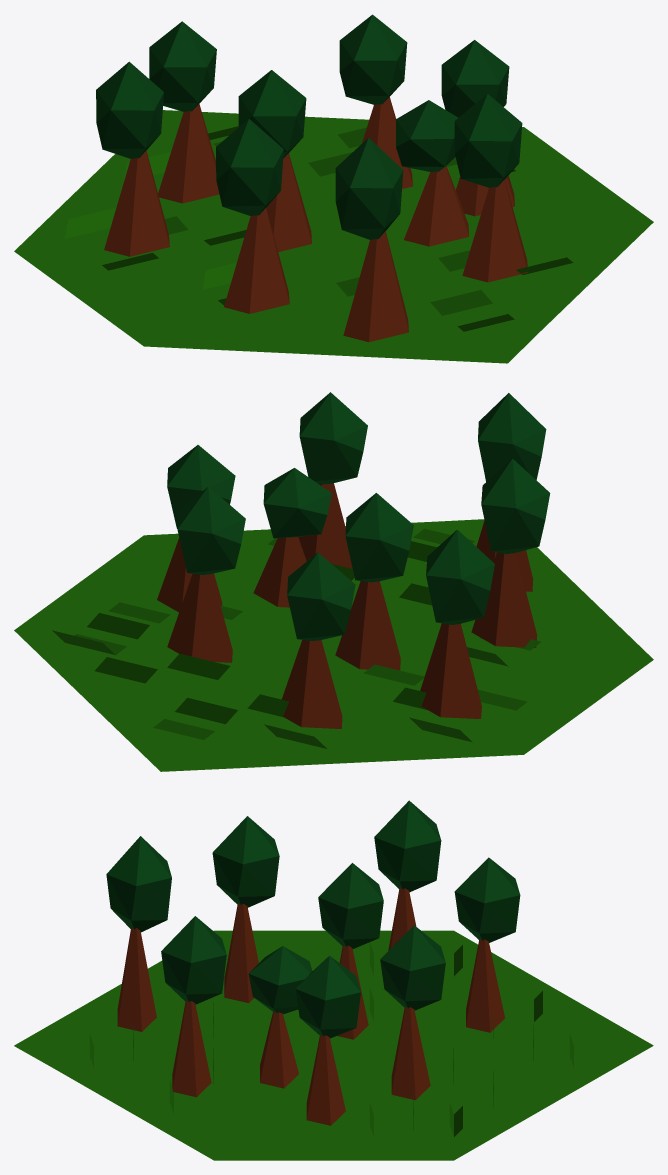
The model's file is lumber.fbx.
The picture shows the model from 3 angles, top to bottom: view 1: azimuth 30°, elevation 25°; view 2: azimuth 150°, elevation 25°; view 3: azimuth 270°, elevation 25°; orthographic projection. The views are drawn at different scales.
Parts seen in each view (by area): view 1: Plane, Icosphere.001, Icosphere.008, Icosphere.005, Icosphere.003, Icosphere.004, Icosphere.006, Icosphere, Icosphere.002, Icosphere.007; view 2: Plane, Icosphere.008, Icosphere.005, Icosphere.002, Icosphere, Icosphere.004, Icosphere.003, Icosphere.006, Icosphere.001, Icosphere.007; view 3: Plane, Icosphere.001, Icosphere.005, Icosphere.003, Icosphere.004, Icosphere, Icosphere.007, Icosphere.008, Icosphere.002, Icosphere.006.
Part boxes in pixels (x1,y1,x2,y2): Plane: [14, 110, 653, 363]; Icosphere.001: [335, 138, 408, 342]; Icosphere.008: [96, 61, 169, 256]; Icosphere.005: [216, 119, 289, 313]; Icosphere.003: [454, 94, 527, 282]; Icosphere.004: [149, 21, 219, 203]; Icosphere.006: [396, 100, 469, 246]; Icosphere: [339, 14, 412, 188]; Icosphere.002: [238, 70, 311, 251]; Icosphere.007: [441, 40, 514, 216]; Plane: [14, 519, 653, 771]; Icosphere.008: [420, 529, 494, 718]; Icosphere.005: [471, 458, 550, 647]; Icosphere.002: [335, 493, 413, 670]; Icosphere: [167, 486, 245, 662]; Icosphere.004: [281, 552, 355, 728]; Icosphere.003: [298, 392, 367, 568]; Icosphere.006: [253, 468, 331, 607]; Icosphere.001: [476, 393, 546, 591]; Icosphere.007: [157, 445, 235, 612]; Plane: [14, 930, 653, 1160]; Icosphere.001: [106, 836, 171, 1031]; Icosphere.005: [212, 816, 279, 1002]; Icosphere.003: [161, 916, 226, 1097]; Icosphere.004: [454, 857, 520, 1032]; Icosphere: [380, 925, 445, 1100]; Icosphere.007: [295, 955, 360, 1125]; Icosphere.008: [374, 800, 441, 950]; Icosphere.002: [318, 863, 383, 1039]; Icosphere.006: [248, 946, 312, 1088].
Size of the model in its own units: 1.7 by 0.6143 by 2.
